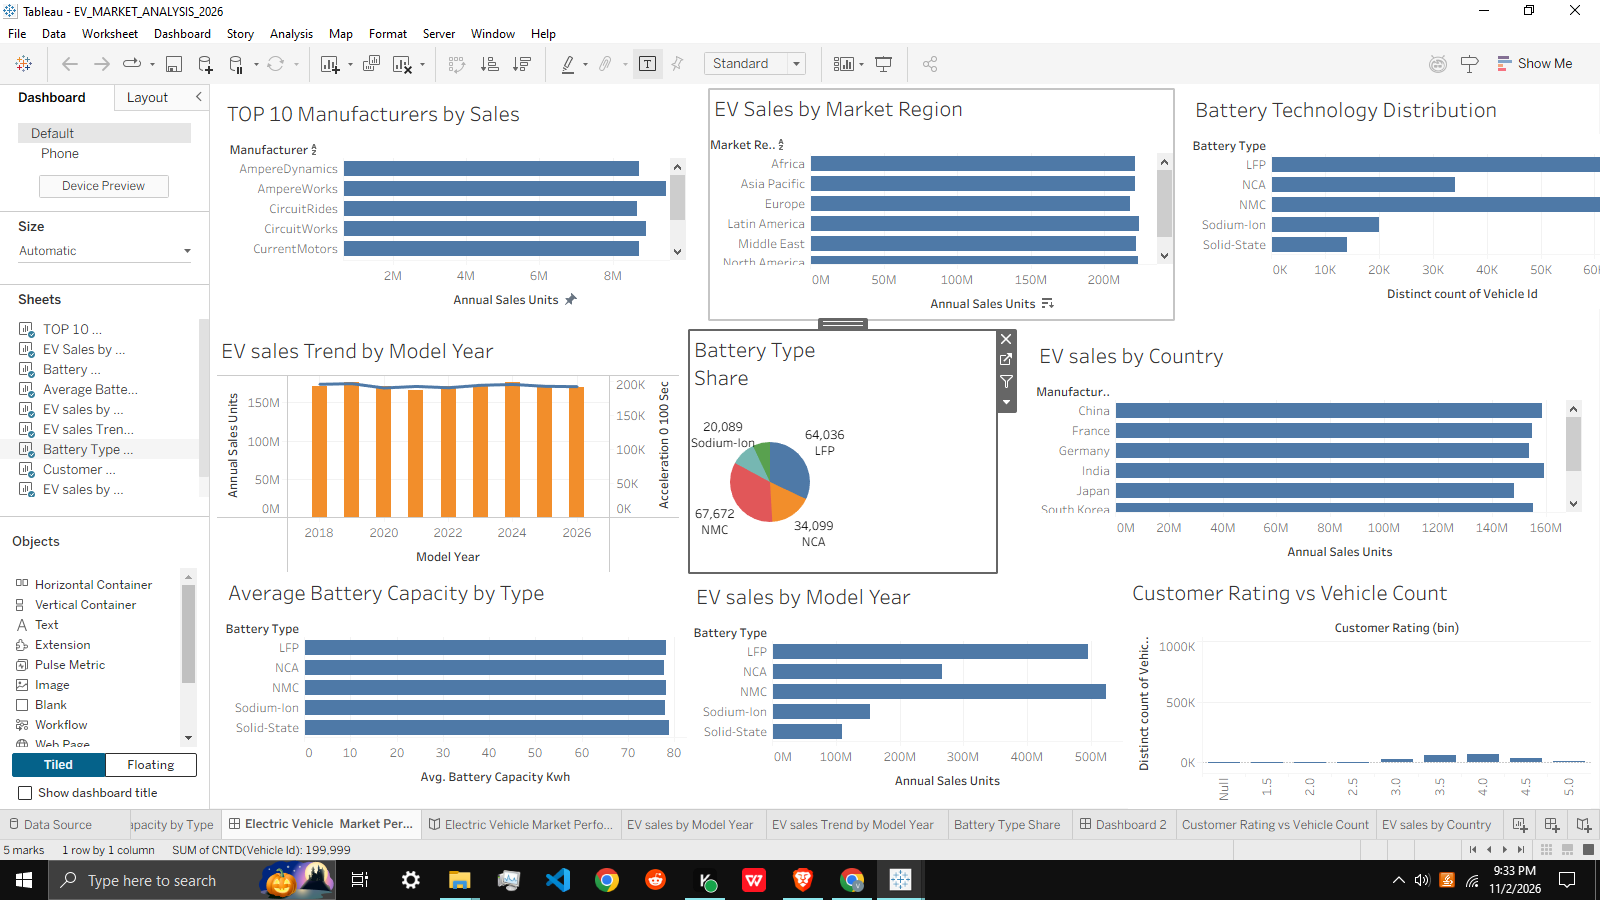

What the dashboard file says about the page in this screenshot:
{"tool":"tableau","page":{"name":"Electric Vehicle  Market Perfomance &  Insights","canvas":[1000,1000],"units":"permille","ordinal":1},"visuals":[{"type":"worksheet","title":"EV Sales by Market Region","mark":"Automatic","rows":["market_region"],"cols":["annual_sales_units"],"box":[360,8.3,333.3,316.3]},{"type":"worksheet","title":"TOP 10 Manufacturers by Sales","mark":"Automatic","rows":["manufacturer"],"cols":["annual_sales_units"],"box":[9.4,15.2,333.3,303.9]},{"type":"worksheet","title":"Battery Type Share","mark":"Pie","box":[345.6,341.2,220.3,332.9]},{"type":"worksheet","title":"EV sales Trend by Model Year","mark":"Automatic","rows":["annual_sales_units","acceleration_0_100_sec"],"cols":["model_year"],"box":[5,342.5,333.3,332.9]},{"type":"worksheet","title":"EV sales by Country","mark":"Bar","rows":["manufacturing_country"],"cols":["annual_sales_units"],"box":[594,349.4,393.8,317.7]}]}

Visuals, with their boxes on the dashboard's canvas, which has no fixed pixel size, in thousandths of its width and height (x1, y1, x2, y2). These are canvas units, not pixel positions in the 1600x900 screenshot, which may show the page scaled, cropped or inside an application window:
"EV Sales by Market Region" worksheet: <region>360, 8, 693, 325</region>
"TOP 10 Manufacturers by Sales" worksheet: <region>9, 15, 343, 319</region>
"Battery Type Share" worksheet (Pie marks): <region>346, 341, 566, 674</region>
"EV sales Trend by Model Year" worksheet: <region>5, 342, 338, 675</region>
"EV sales by Country" worksheet (Bar marks): <region>594, 349, 988, 667</region>
